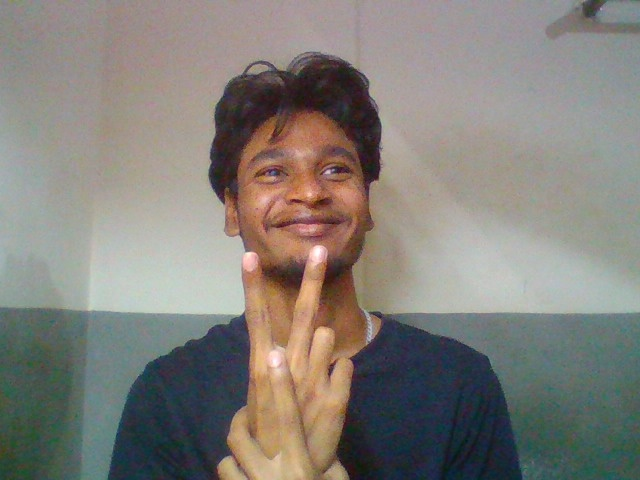Y: (202, 236, 366, 475)
